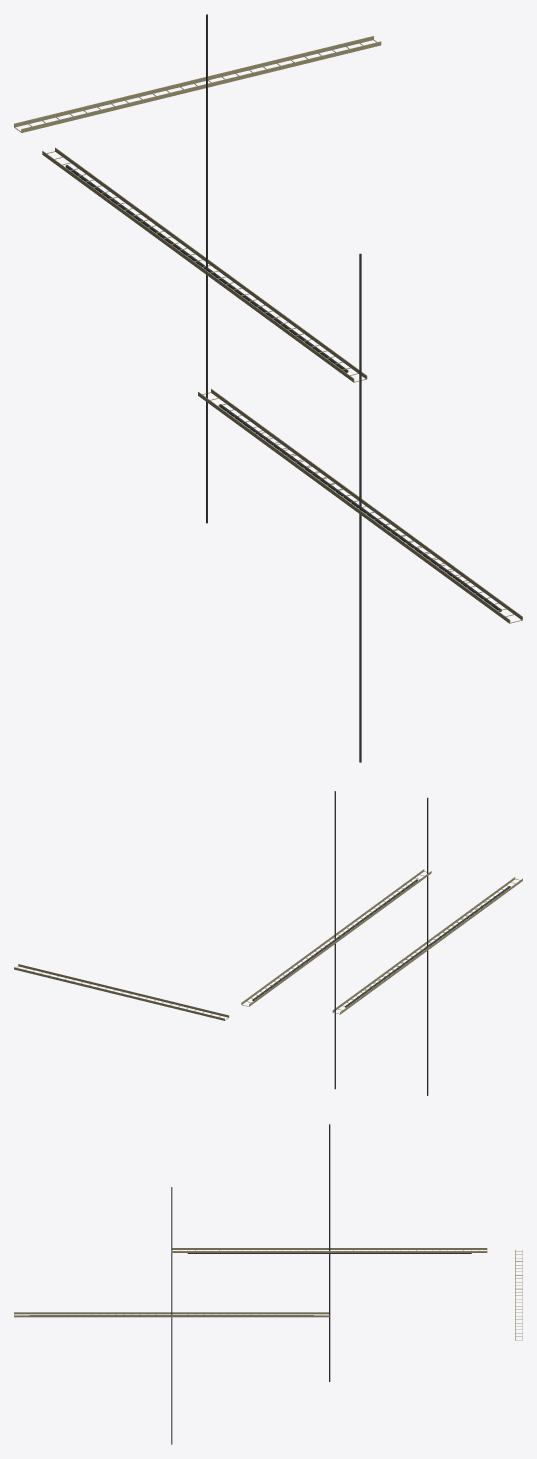
3 renders of one model, top to bottom at view 1: azimuth 30°, elevation 25°; view 2: azimuth 150°, elevation 25°; view 3: azimuth 270°, elevation 25°, orthographic. The views are drawn at different scales.
Parts seen in each view (by area): view 1: rail_right (×2), rail_left (×2), rail_left.001 (×2), sheath (×2), rail_right.001, bundle_core_s7, bundle_core_s9, bundle_core_s8; view 2: rail_right (×2), rail_left (×2), sheath (×2), rail_right.001, rail_left.001; view 3: rail_left (×2), rail_right (×2), bundle_core_s1.
Boxes of the visible parts, x1,y1,x2,y2 form: rail_right (×2): (55,147,522,620); rail_left (×2): (42,151,510,623); rail_left.001 (×2): (21,41,457,585); sheath (×2): (65,165,501,611); rail_right.001: (14,36,373,127); bundle_core_s7: (359,254,360,762); bundle_core_s9: (360,254,361,762); bundle_core_s8: (206,15,207,522); rail_right (×2): (241,869,515,1012); rail_left (×2): (249,871,522,1014); sheath (×2): (252,879,510,1007); rail_right.001: (14,967,224,1020); rail_left.001: (18,964,229,1017); rail_left (×2): (14,1248,487,1314); rail_right (×2): (14,1251,487,1317); bundle_core_s1: (171,1187,172,1444).
Size of the model in its own units: 8.15 by 13.45 by 19.35.
